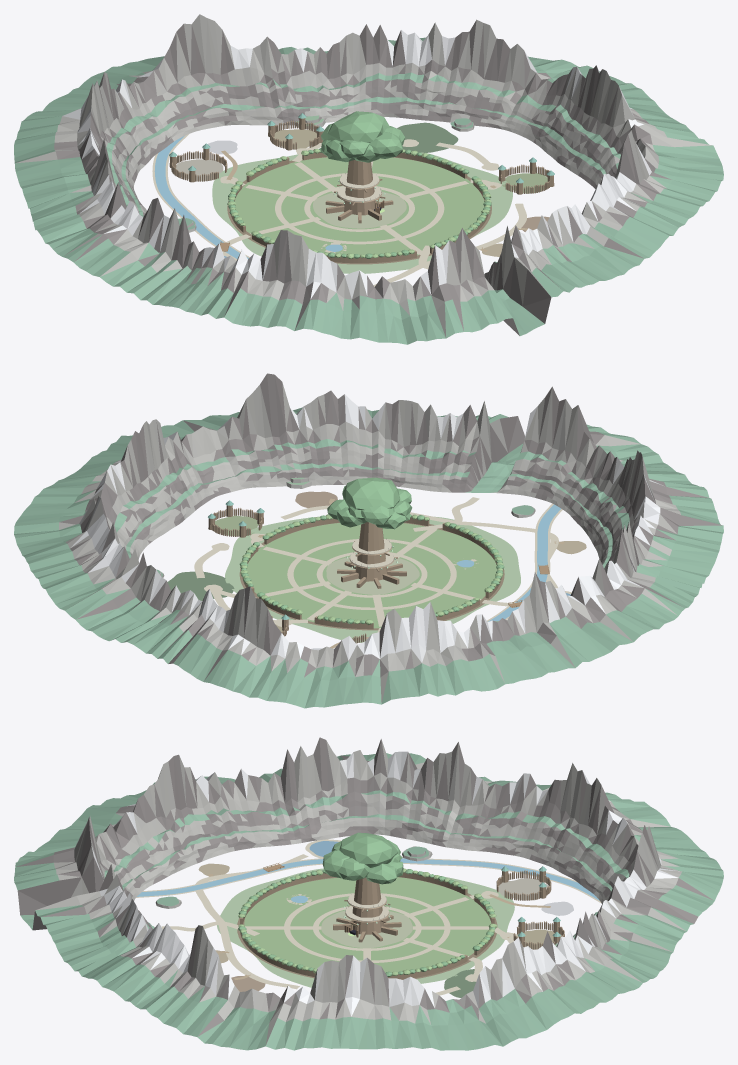
Rendered from map_elf_city.glb.
The picture shows the model from 3 angles, top to bottom: view 1: azimuth 30°, elevation 25°; view 2: azimuth 150°, elevation 25°; view 3: azimuth 270°, elevation 25°; orthographic projection.
Visible parts, largest first — view 1: Z_elf_city_penhascos, Z_elf_city_chao_cidade, Z_elf_city_chao_clareira, Z_elf_city_praca_raiz, Z_elf_city_estrada_anel_externo, Z_elf_city_arvore_copa_0, Z_elf_city_agua_rio_1, Z_elf_city_chao_bosque, Z_elf_city_arvore_tronco, Z_elf_city_estrada_anel, Z_elf_city_chao_forte_ninho, Z_elf_city_arvore_copa_2 (+4 smaller); view 2: Z_elf_city_penhascos, Z_elf_city_chao_cidade, Z_elf_city_chao_clareira, Z_elf_city_praca_raiz, Z_elf_city_arvore_copa_0, Z_elf_city_estrada_anel_externo, Z_elf_city_arvore_tronco, Z_elf_city_chao_bosque, Z_elf_city_agua_rio_1, Z_elf_city_estrada_anel, Z_elf_city_estrada_arco_oeste, Z_elf_city_pe_muro (+2 smaller); view 3: Z_elf_city_penhascos, Z_elf_city_chao_cidade, Z_elf_city_chao_clareira, Z_elf_city_agua_rio_1, Z_elf_city_praca_raiz, Z_elf_city_arvore_copa_0, Z_elf_city_estrada_anel_externo, Z_elf_city_arvore_tronco, Z_elf_city_margem_rio_1, Z_elf_city_estrada_anel, Z_elf_city_chao_forte_ninho, Z_elf_city_estrada_arco_sul (+4 smaller).
Boxes of the visible parts, left/top/right/bottom form: Z_elf_city_penhascos: left=14, top=14, right=723, bottom=344; Z_elf_city_chao_cidade: left=234, top=157, right=484, bottom=255; Z_elf_city_chao_clareira: left=212, top=152, right=512, bottom=273; Z_elf_city_praca_raiz: left=313, top=191, right=406, bottom=228; Z_elf_city_estrada_anel_externo: left=275, top=173, right=444, bottom=244; Z_elf_city_arvore_copa_0: left=328, top=111, right=389, bottom=142; Z_elf_city_agua_rio_1: left=154, top=136, right=248, bottom=258; Z_elf_city_chao_bosque: left=397, top=122, right=458, bottom=152; Z_elf_city_arvore_tronco: left=344, top=160, right=375, bottom=215; Z_elf_city_estrada_anel: left=304, top=186, right=414, bottom=231; Z_elf_city_chao_forte_ninho: left=171, top=159, right=223, bottom=181; Z_elf_city_arvore_copa_2: left=369, top=131, right=402, bottom=158; Z_elf_city_penhascos: left=14, top=373, right=723, bottom=708; Z_elf_city_chao_cidade: left=246, top=523, right=497, bottom=628; Z_elf_city_chao_clareira: left=225, top=516, right=520, bottom=642; Z_elf_city_praca_raiz: left=326, top=557, right=419, bottom=594; Z_elf_city_arvore_copa_0: left=342, top=477, right=399, bottom=509; Z_elf_city_estrada_anel_externo: left=287, top=539, right=456, bottom=609; Z_elf_city_arvore_tronco: left=355, top=522, right=387, bottom=581; Z_elf_city_chao_bosque: left=167, top=571, right=234, bottom=600; Z_elf_city_agua_rio_1: left=488, top=504, right=560, bottom=621; Z_elf_city_estrada_anel: left=316, top=552, right=427, bottom=597; Z_elf_city_estrada_arco_oeste: left=455, top=521, right=558, bottom=588; Z_elf_city_pe_muro: left=239, top=522, right=504, bottom=630; Z_elf_city_penhascos: left=14, top=737, right=723, bottom=1050; Z_elf_city_chao_cidade: left=244, top=877, right=491, bottom=972; Z_elf_city_chao_clareira: left=217, top=868, right=514, bottom=987; Z_elf_city_agua_rio_1: left=137, top=858, right=599, bottom=900; Z_elf_city_praca_raiz: left=321, top=910, right=412, bottom=948; Z_elf_city_arvore_copa_0: left=339, top=832, right=398, bottom=867; Z_elf_city_estrada_anel_externo: left=284, top=893, right=450, bottom=962; Z_elf_city_arvore_tronco: left=351, top=877, right=383, bottom=934; Z_elf_city_margem_rio_1: left=136, top=857, right=600, bottom=902; Z_elf_city_estrada_anel: left=313, top=906, right=421, bottom=950; Z_elf_city_chao_forte_ninho: left=498, top=878, right=548, bottom=900; Z_elf_city_estrada_arco_sul: left=218, top=923, right=299, bottom=989.
Size of the model in its own units: 361 by 54.53 by 372.
